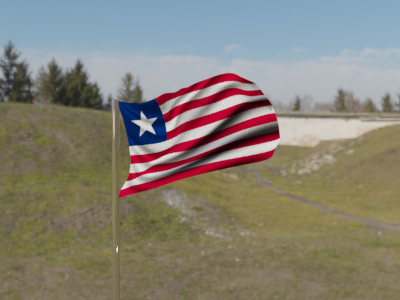Liberia flag: (117, 73, 281, 197)
